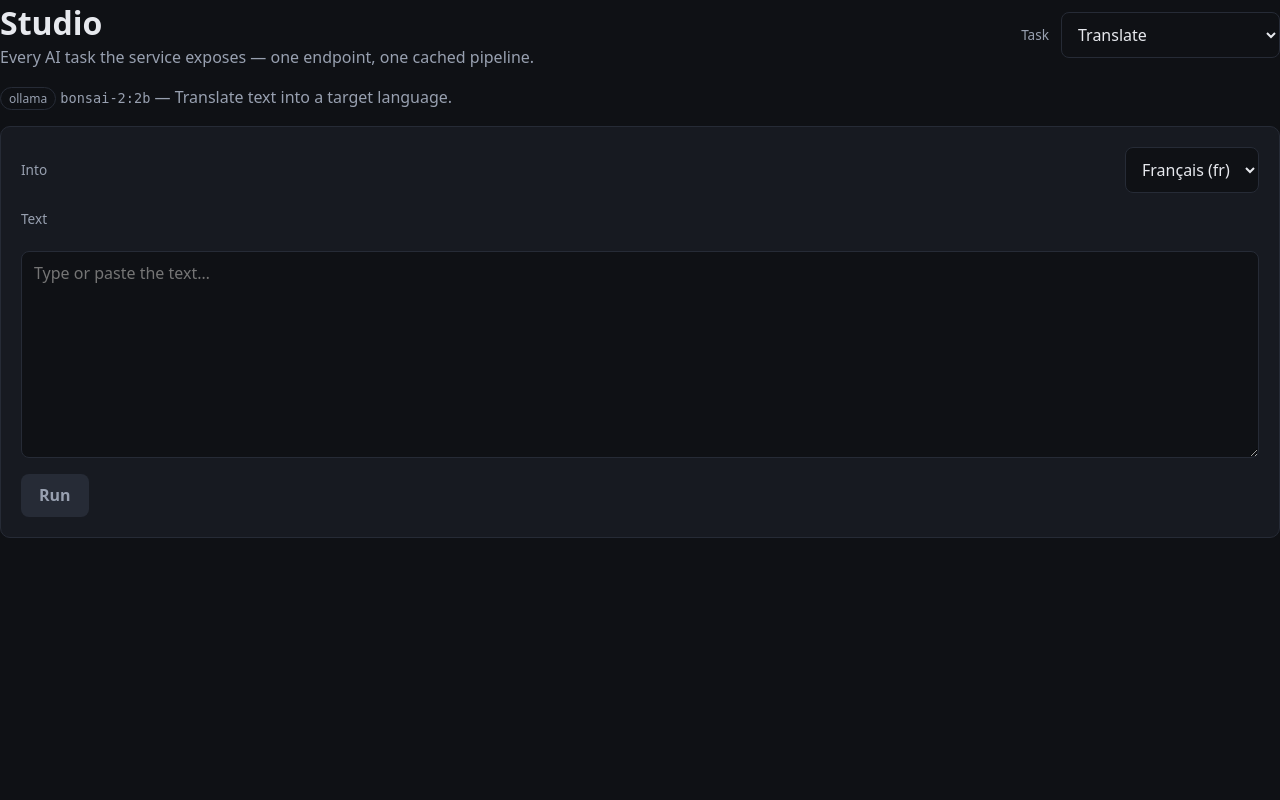
Studio › validates and trims candidate labels for zero-shot classification
Select "Zero-shot classification" in the dropdown labelled "Task" at x=1170, y=35, box [1061, 12, 1279, 58]
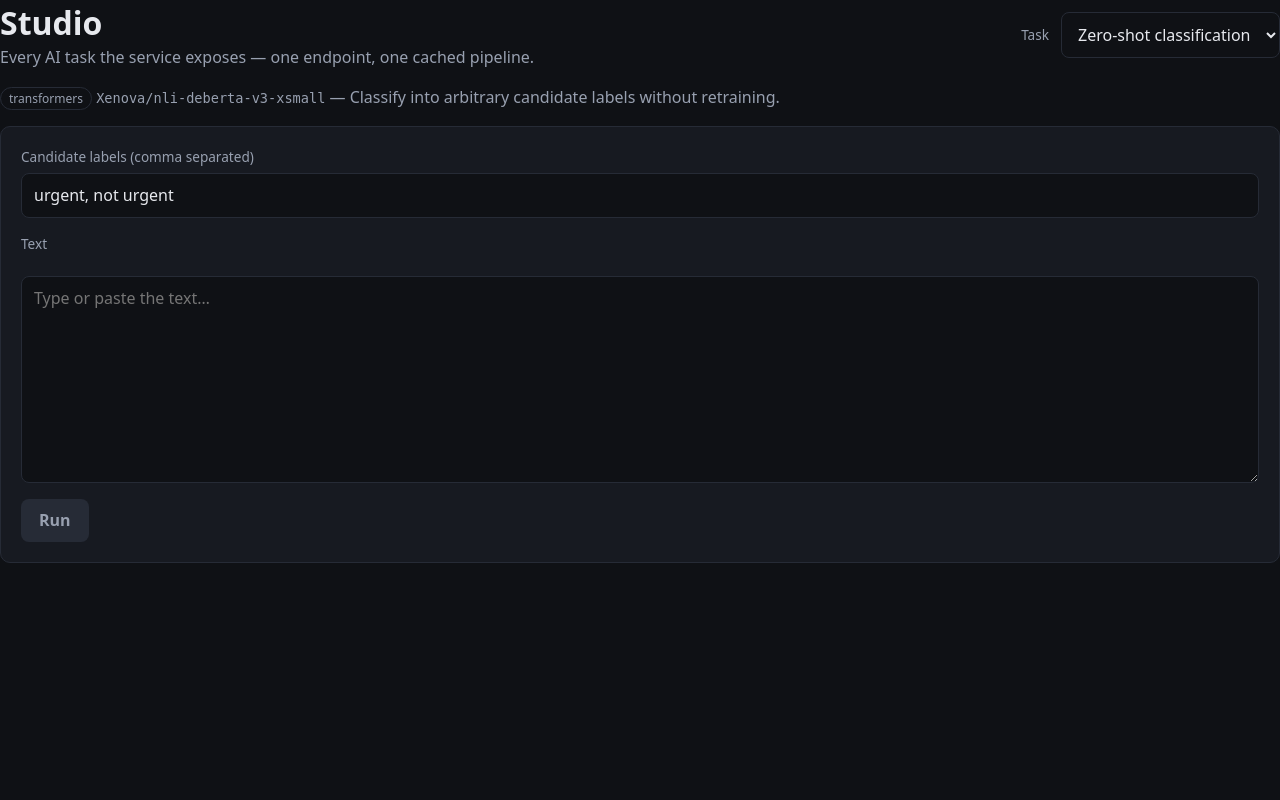
Type "Ship it" into the text box labelled "Text" at x=640, y=379, box [21, 276, 1259, 483]
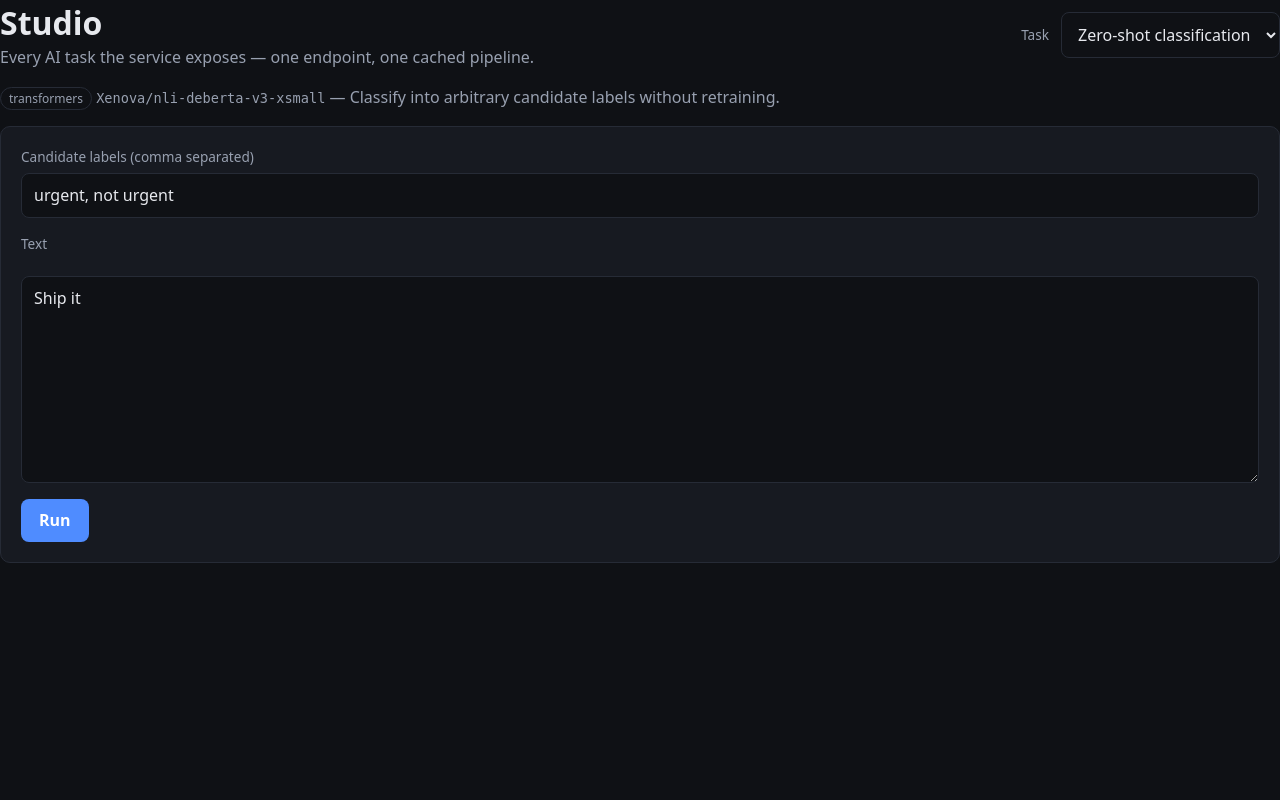
Replace the text in the field labelled "Candidate labels (comma separated)" with " only one " at x=640, y=195, box [21, 173, 1259, 218]
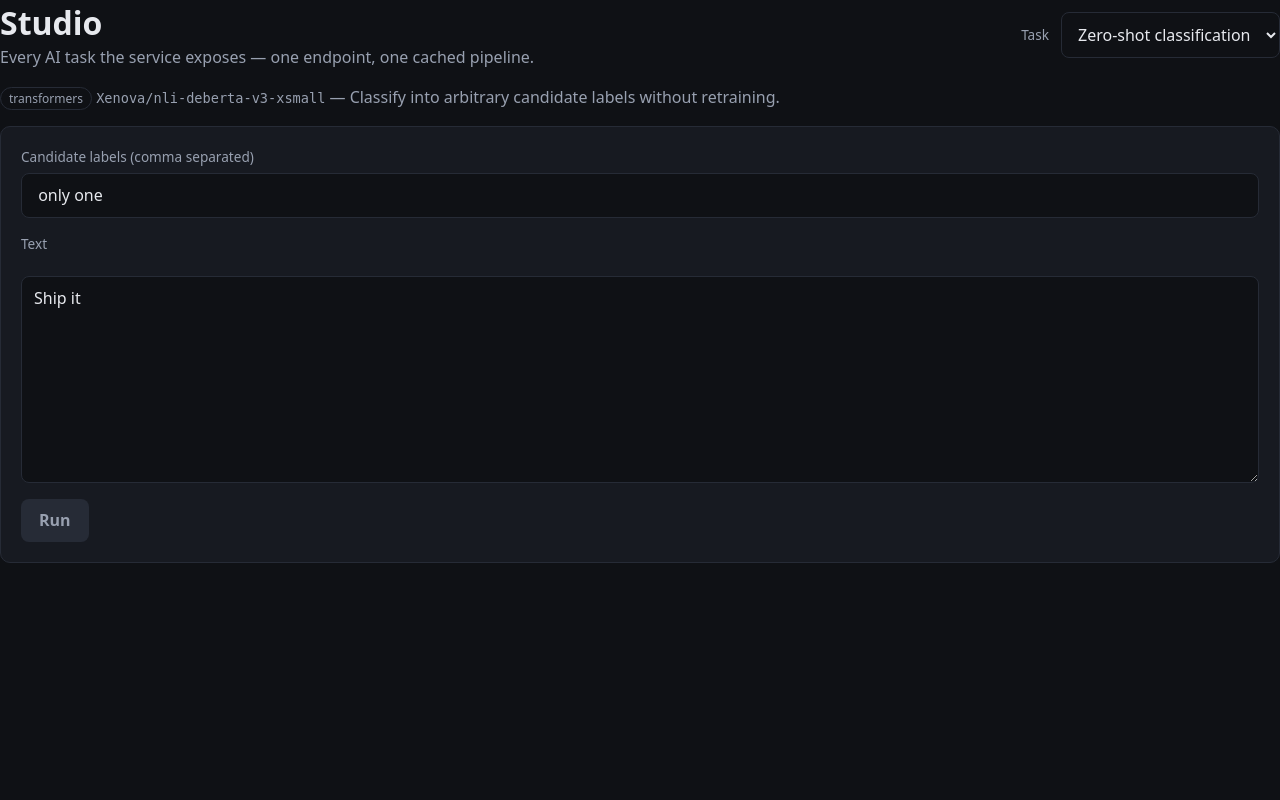
Result: the button "Run" is disabled at [21, 499, 89, 542]
Replace the text in the field labelled "Candidate labels (comma separated)" with " urgent , , not urgent " at x=640, y=195, box [21, 173, 1259, 218]
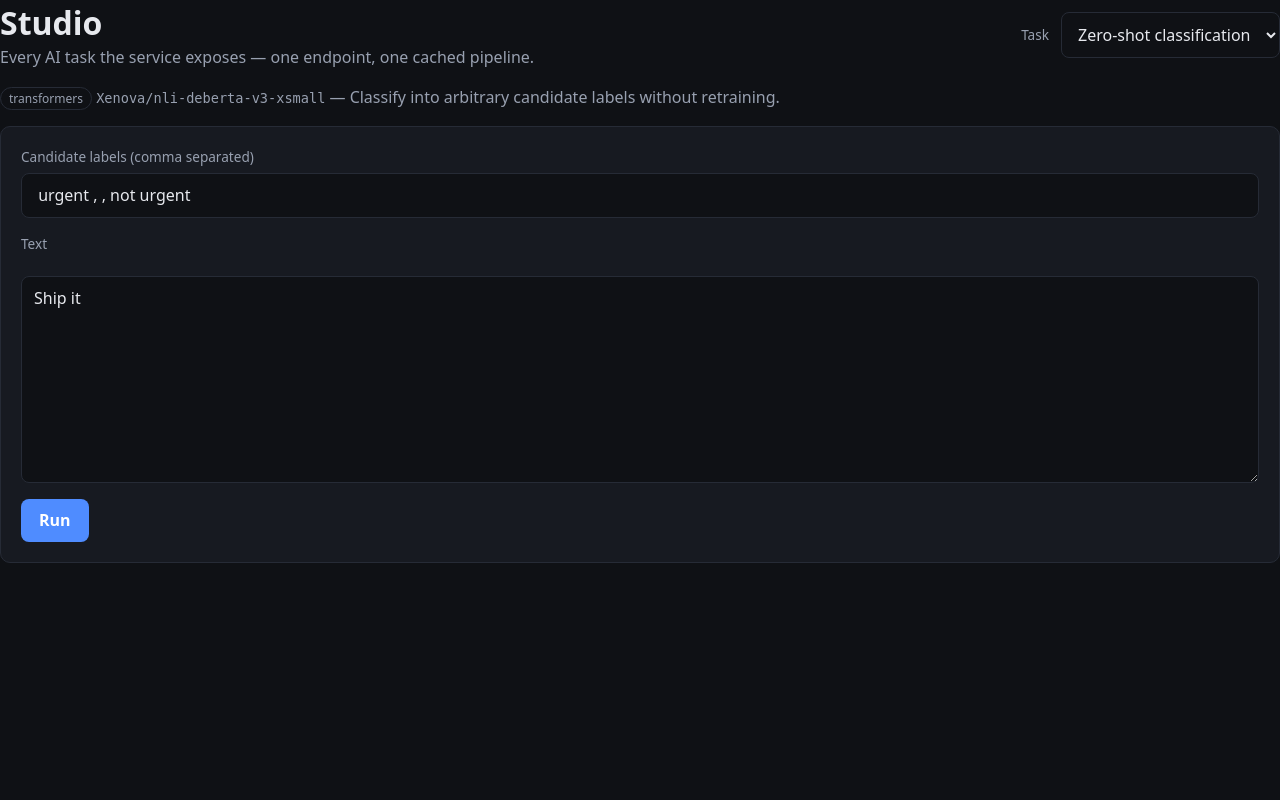
Result: the button "Run" is enabled
Click the button "Run" at x=55, y=521, box [21, 499, 89, 542]
(page scrolled)
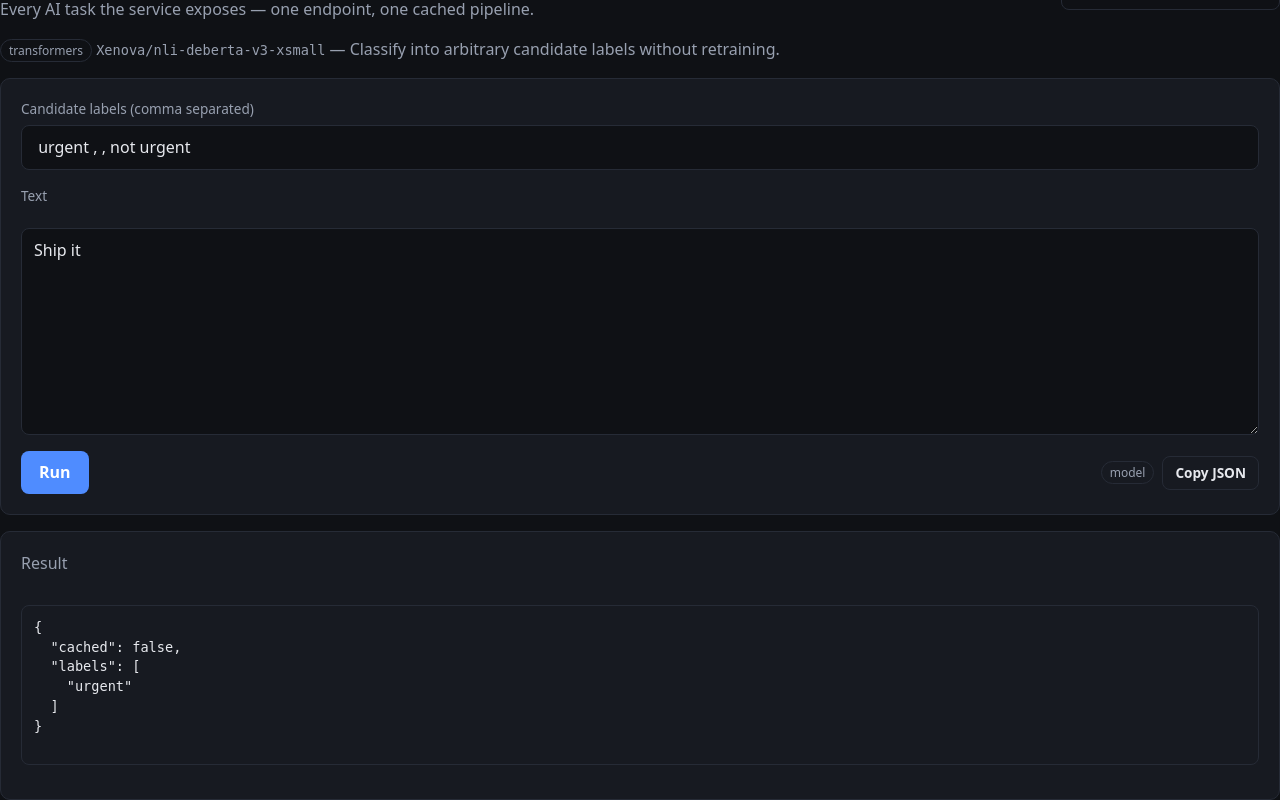
Result: the text "{ \"cached\": false, \"labels\": [ \"urgent\" ] }" is shown at [21, 605, 1259, 765]
